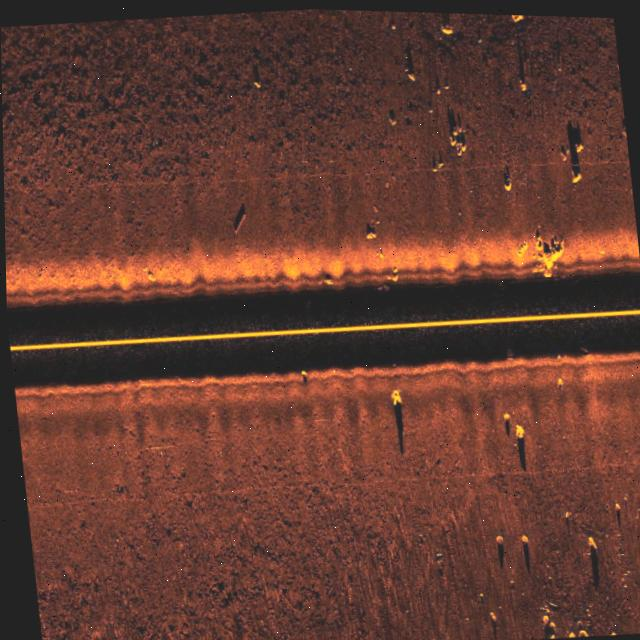mine: (386, 383, 407, 451), (511, 520, 532, 579), (510, 415, 531, 473), (486, 521, 508, 566), (227, 198, 250, 237), (499, 158, 512, 188)
other: (526, 226, 573, 281), (581, 527, 601, 592)
